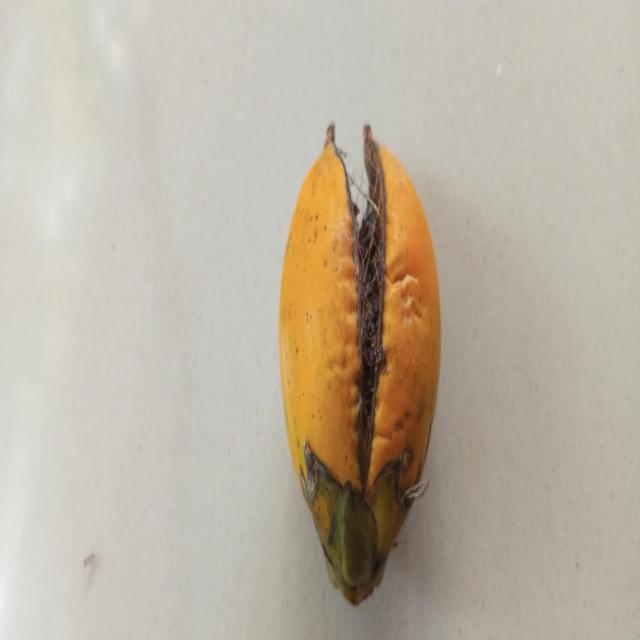damaged: (279, 123, 440, 604)
